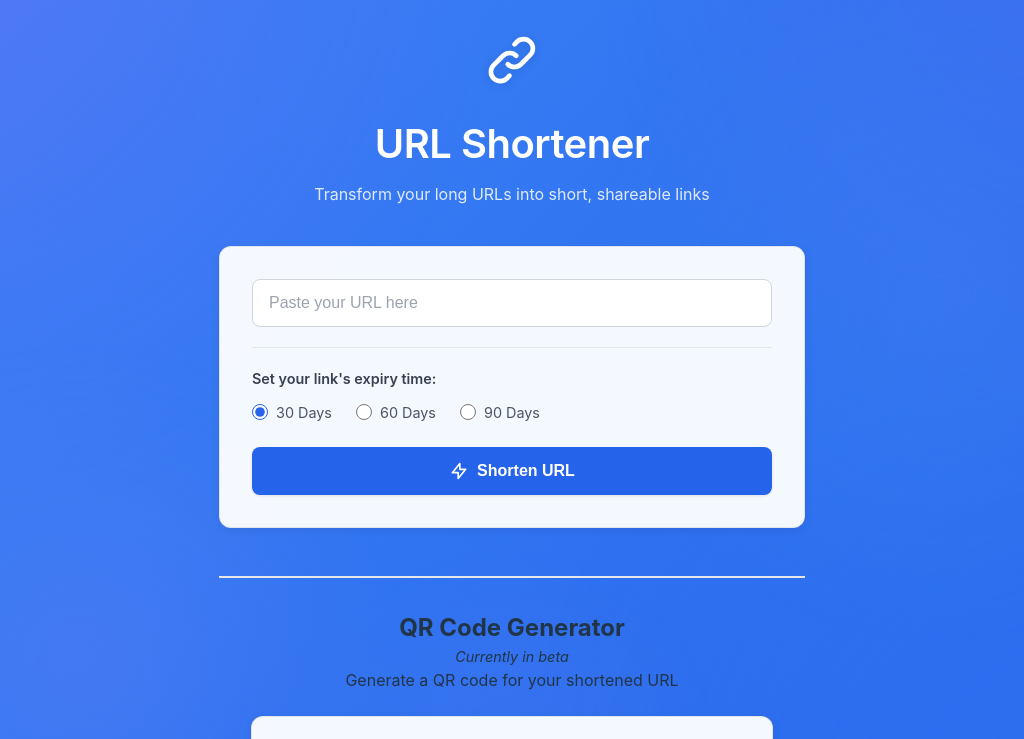
Test: App Component › Error Handling › should display error when response is not ok
Type "https://example.com" into the field with placeholder "Paste your URL here".
click(512, 303); type("https://example.com")  # box [252,279,772,327]
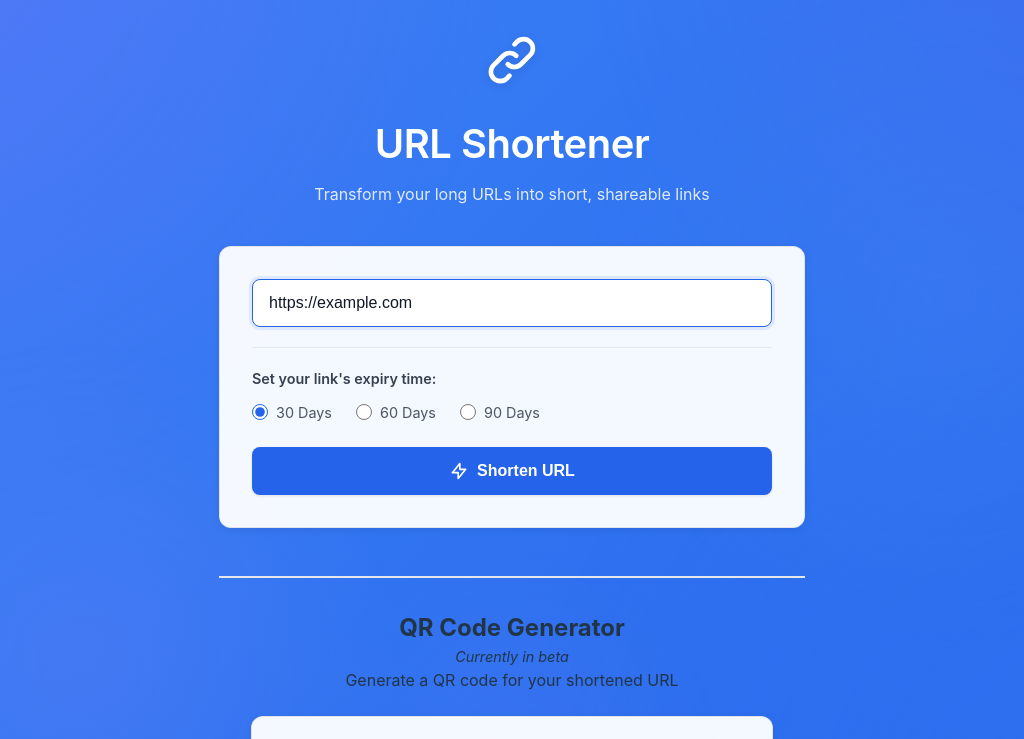
Click the button "Shorten URL".
click(512, 471)  # box [252,447,772,495]
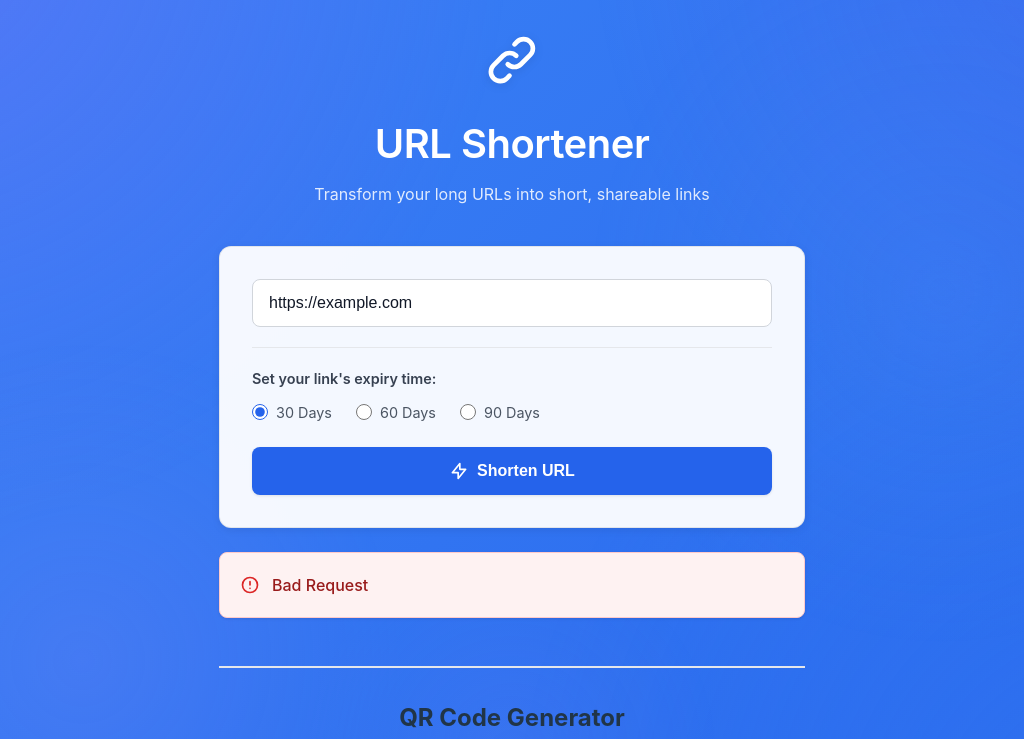
Expected: the text "Bad Request" is shown, [272,573,368,597]
